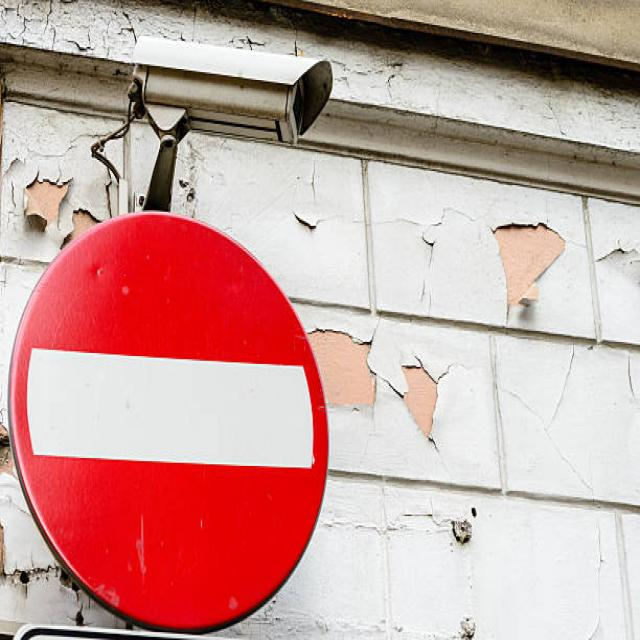do_not_enter: (3, 190, 336, 635)
